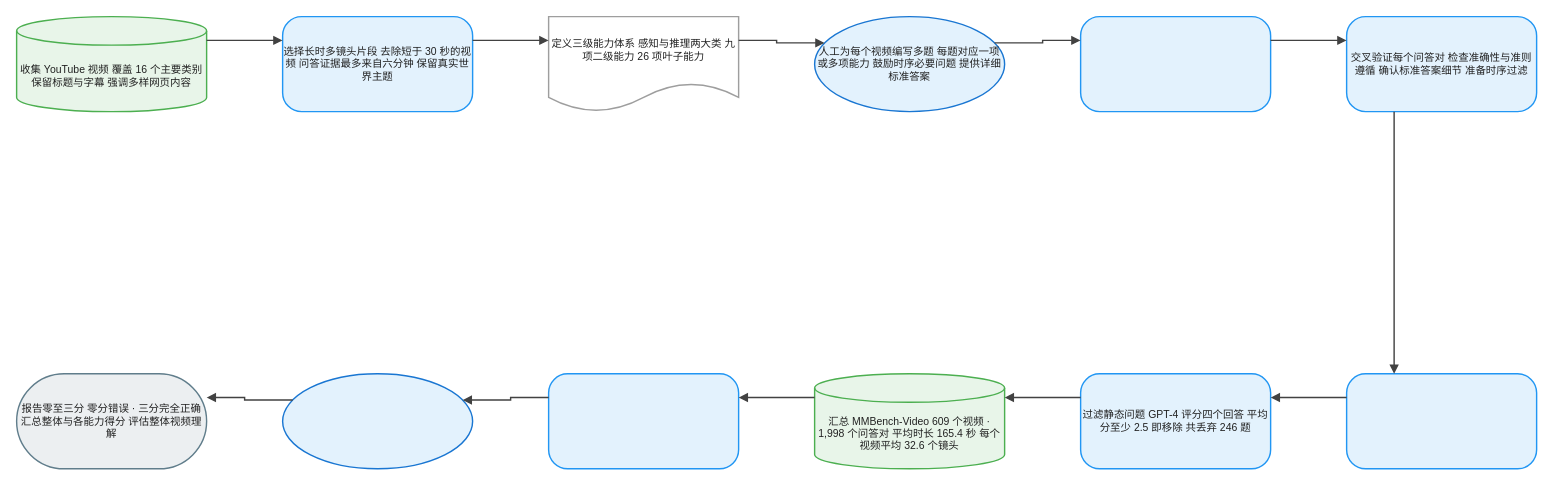
Image size: 1554x486. Some labels were removed from this diagram. Here are the shapes that lost their labels. From the top down, the centre of each, then its label:
At pixel 1175 63: "执行五项编写准则 避免写入明确时间戳 使用多样自由表达 问题与能力分类对齐".
At pixel 377 421: "使用 GPT-4 评判 对比候选与标准答案 依据语义内容相似度 忽略语法差异".
At pixel 643 421: "生成视频模型回答 按时间顺序采样多帧 可选加入字幕 保留自由文本回答".
At pixel 1441 421: "探测时序必要性 随机抽取单帧 GPT-4V 用四个种子作答 得到四个候选回答".
